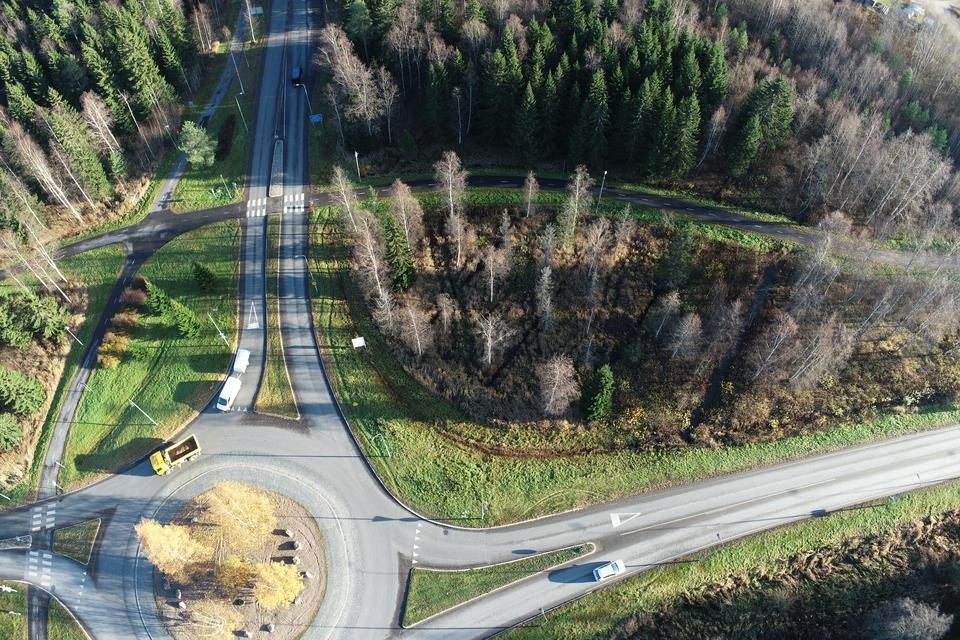intersection: (11, 479, 72, 621), (224, 181, 341, 233)
roundabout: (94, 354, 478, 639)
